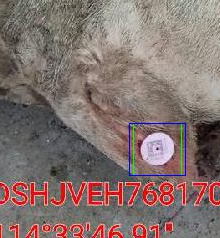text: (133, 123, 181, 175)
